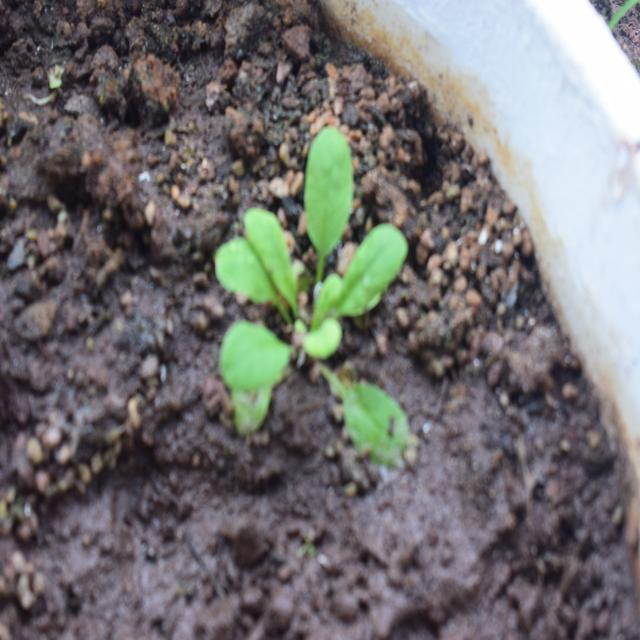Shepherd_Purse: (197, 128, 418, 458)
